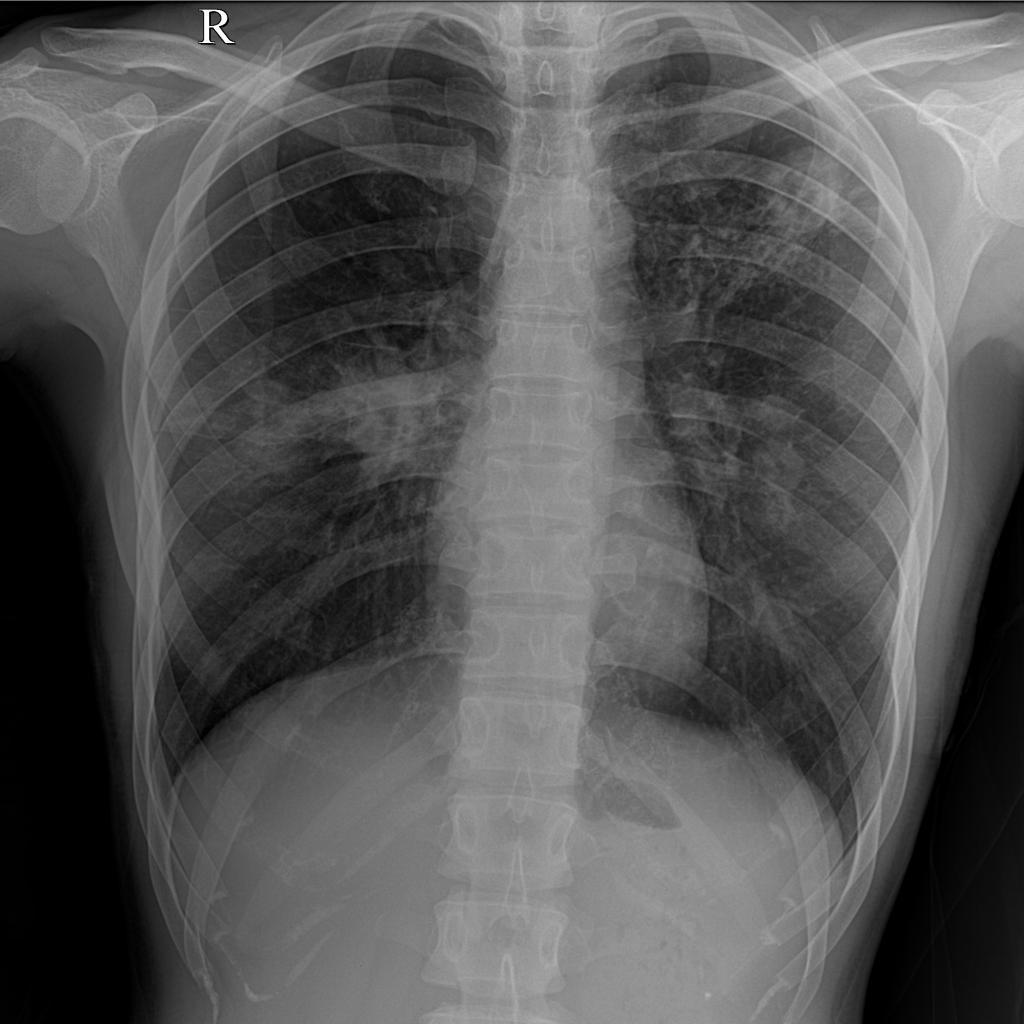Nodule: (726, 390, 829, 510)
